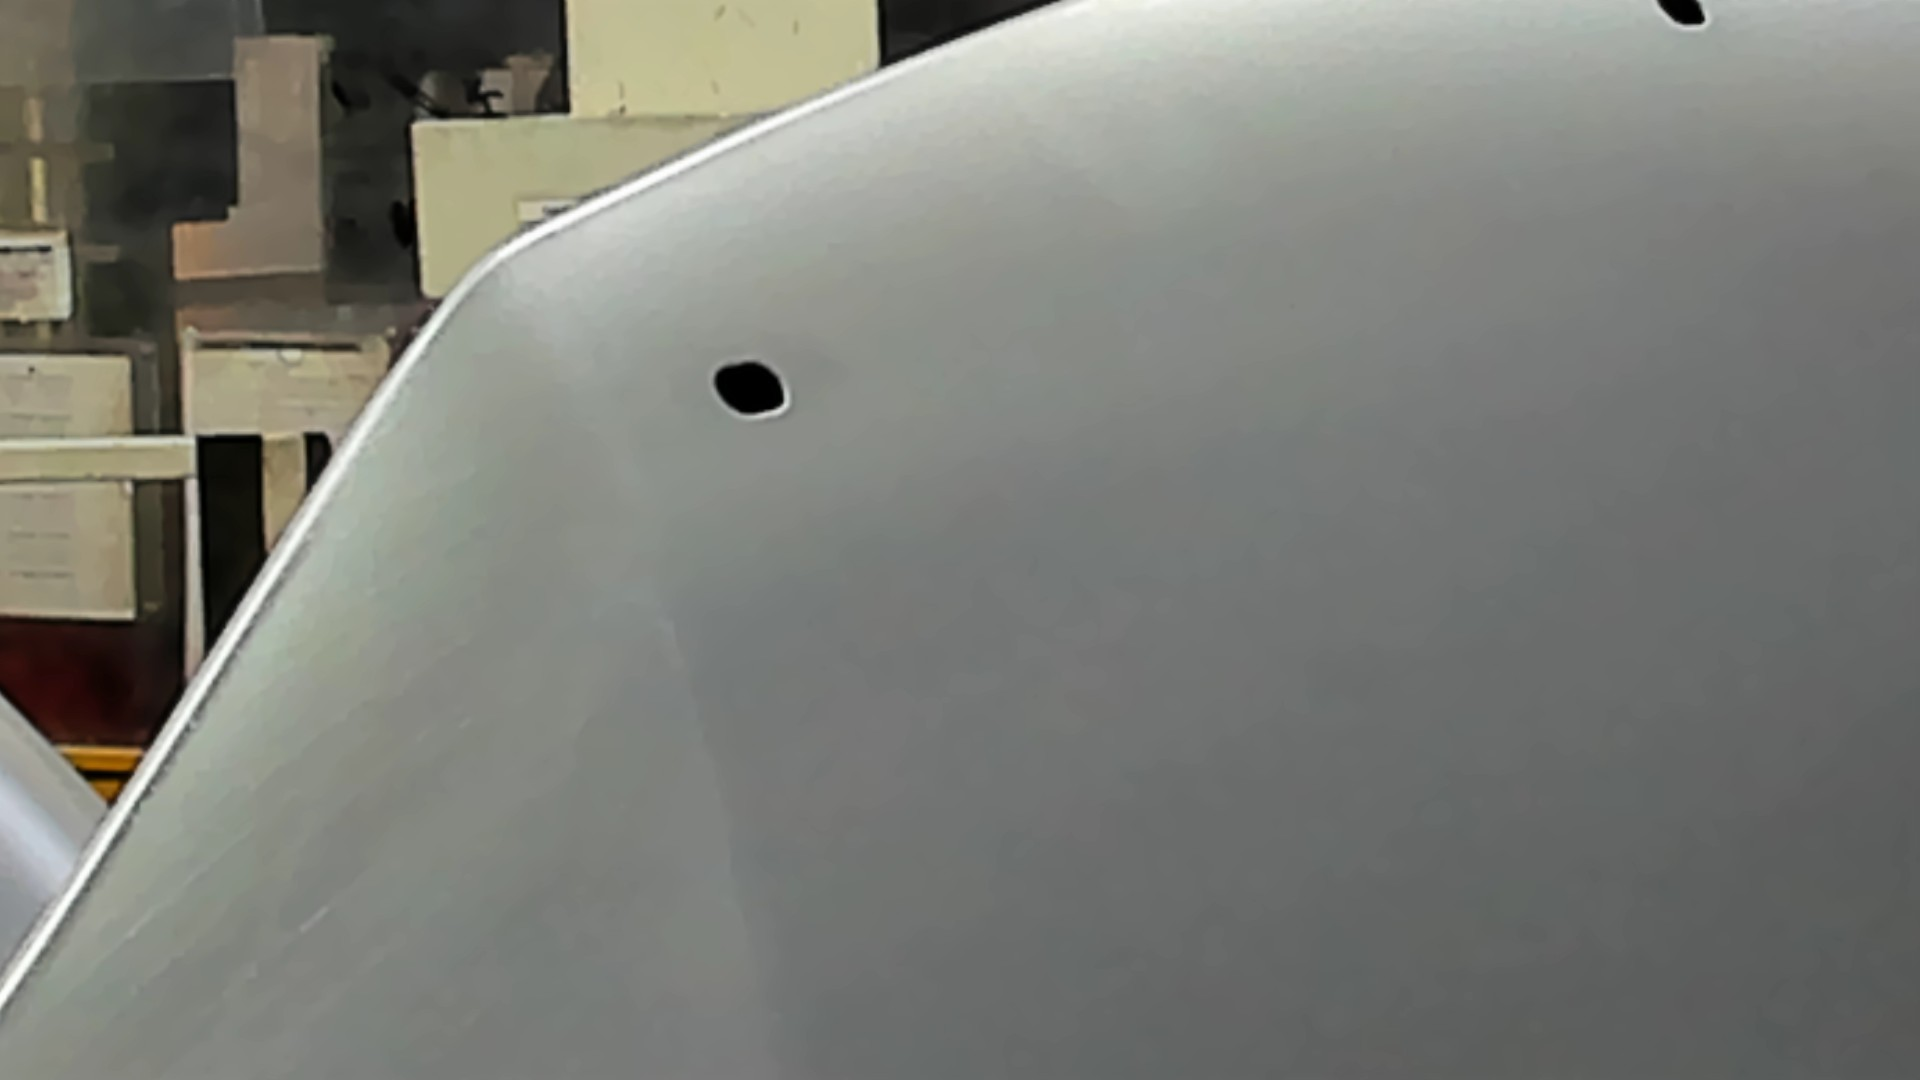amorfo: (709, 355, 793, 419), (1655, 1, 1714, 36)
